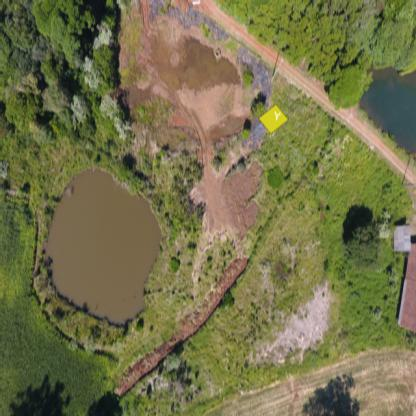Y: (274, 108, 282, 123)
rectangle: (258, 103, 288, 134)
